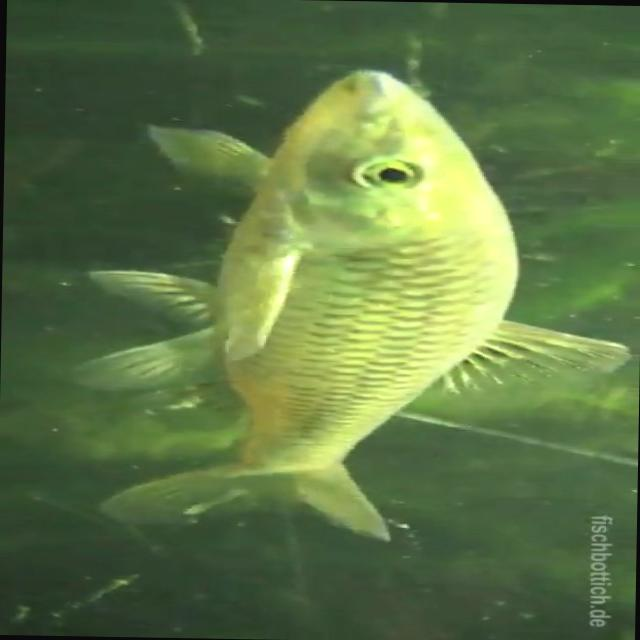Cakil Baligi: (65, 62, 640, 548)
